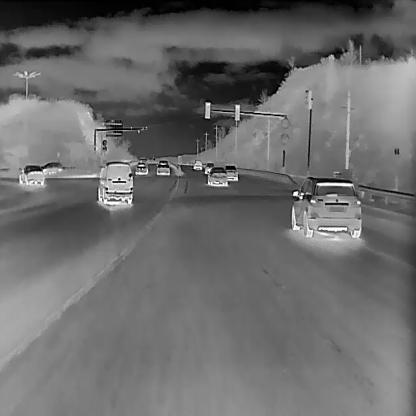car: (290, 175, 361, 239), (98, 160, 133, 206), (18, 164, 44, 186), (207, 166, 228, 186), (40, 161, 61, 174), (224, 165, 238, 182), (135, 157, 148, 175), (156, 160, 169, 176), (203, 161, 214, 174), (193, 159, 202, 170)
